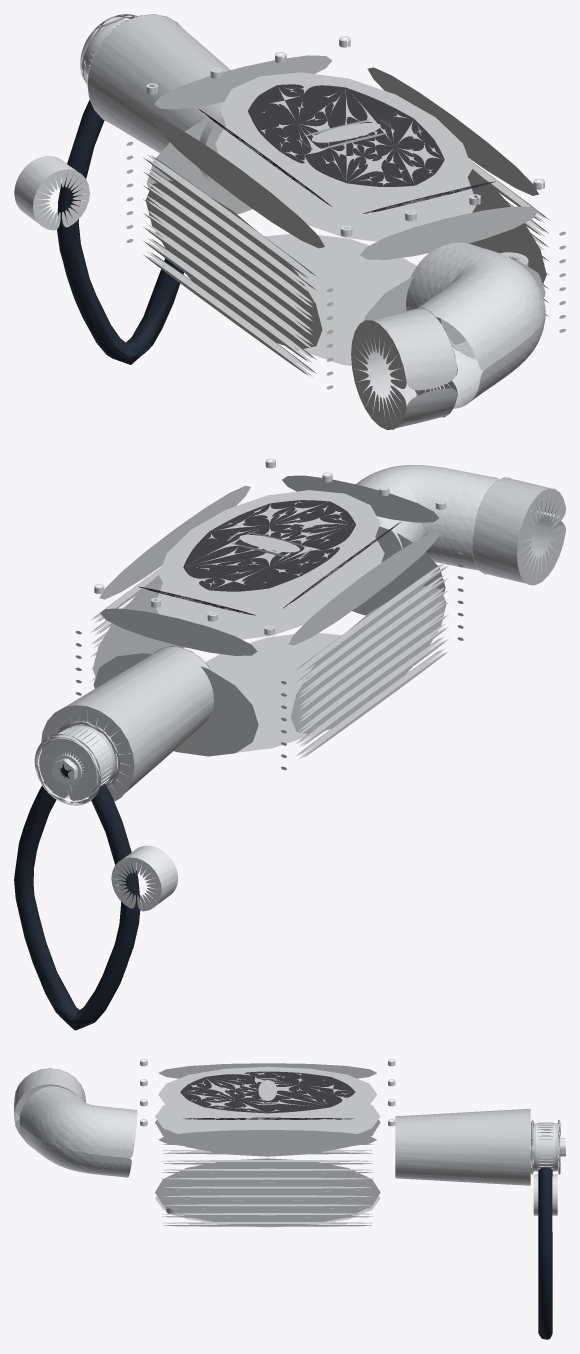
Rendered from supercharger_twin_screw.glb.
3 renders of one model, top to bottom at view 1: azimuth 30°, elevation 25°; view 2: azimuth 150°, elevation 25°; view 3: azimuth 270°, elevation 25°, orthographic. The views are drawn at different scales.
Parts seen in each view (by area): view 1: Billet_Drive_Snout_Housing, Intake_Plenum_Rear_Elbow, Supercharger_Carbon_Top_Plate, Cogged_Supercharger_Drive_Belt, Belt_Tensioner_Idler_Pulley, Embossed_Apex_SC_Emblem; view 2: Billet_Drive_Snout_Housing, Supercharger_Carbon_Top_Plate, Cogged_Supercharger_Drive_Belt, Intake_Plenum_Rear_Elbow, Belt_Tensioner_Idler_Pulley, Embossed_Apex_SC_Emblem; view 3: Billet_Drive_Snout_Housing, Intake_Plenum_Rear_Elbow, Supercharger_Carbon_Top_Plate, Cogged_Supercharger_Drive_Belt, Belt_Tensioner_Idler_Pulley, Embossed_Apex_SC_Emblem.
Part boxes in pixels (x1,y1,x2,y2): Billet_Drive_Snout_Housing: (87, 14, 565, 429); Intake_Plenum_Rear_Elbow: (390, 242, 545, 408); Supercharger_Carbon_Top_Plate: (198, 84, 495, 213); Cogged_Supercharger_Drive_Belt: (57, 99, 183, 364); Belt_Tensioner_Idler_Pulley: (14, 21, 544, 236); Embossed_Apex_SC_Emblem: (80, 14, 394, 149); Billet_Drive_Snout_Housing: (41, 475, 565, 801); Supercharger_Carbon_Top_Plate: (138, 500, 400, 615); Cogged_Supercharger_Drive_Belt: (14, 764, 140, 1030); Intake_Plenum_Rear_Elbow: (356, 465, 498, 570); Belt_Tensioner_Idler_Pulley: (43, 458, 445, 911); Embossed_Apex_SC_Emblem: (34, 531, 311, 805); Billet_Drive_Snout_Housing: (14, 1063, 530, 1227); Intake_Plenum_Rear_Elbow: (19, 1086, 137, 1177); Supercharger_Carbon_Top_Plate: (180, 1071, 355, 1119); Cogged_Supercharger_Drive_Belt: (538, 1166, 552, 1339); Belt_Tensioner_Idler_Pulley: (140, 1059, 565, 1215); Embossed_Apex_SC_Emblem: (258, 1078, 560, 1174).
Size of the model in its own units: 0.2712 by 0.3927 by 0.7876.
